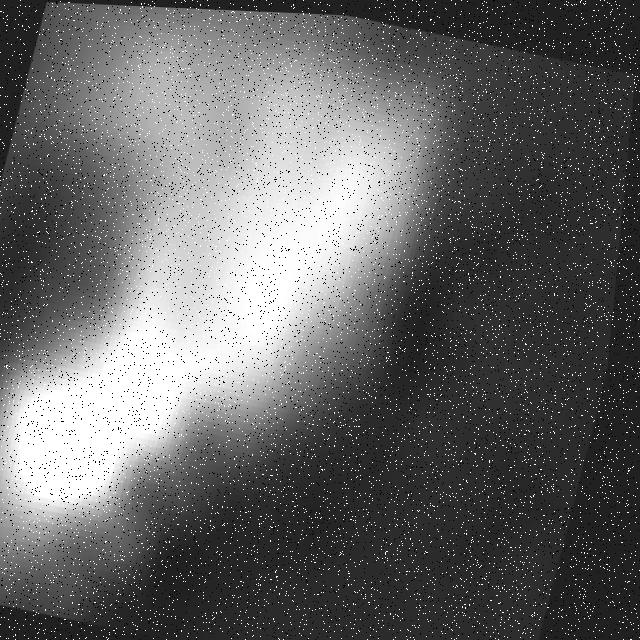person: (1, 1, 484, 640)
